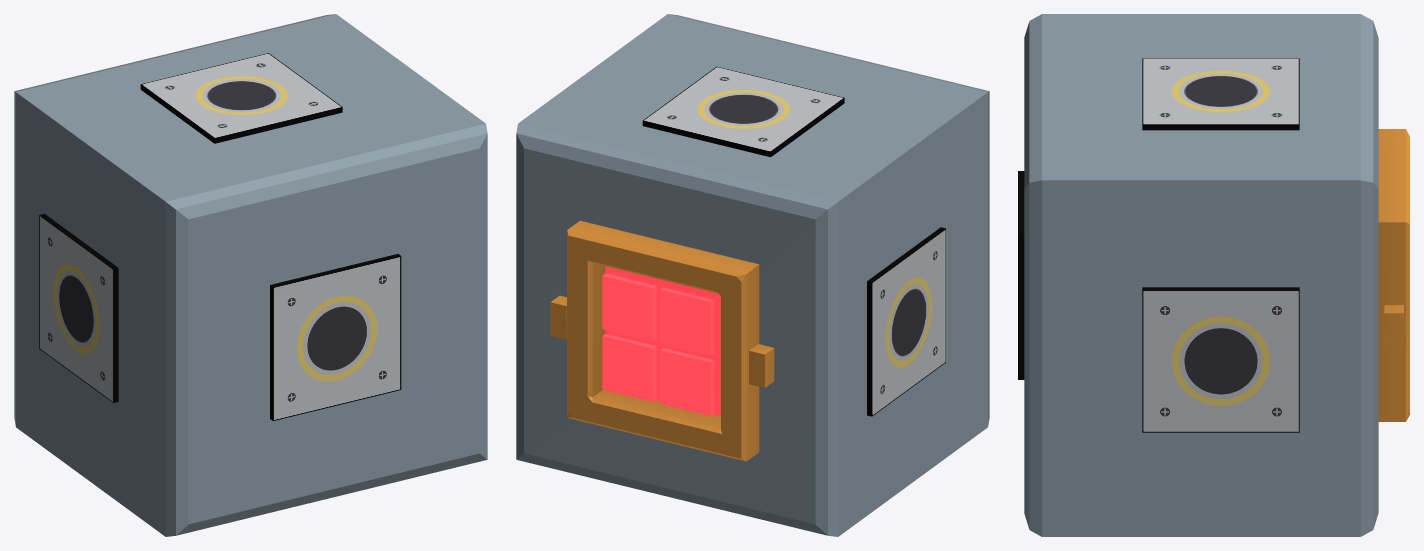
3 views of the same model, side by side, from view 1: azimuth 30°, elevation 25°; view 2: azimuth 150°, elevation 25°; view 3: azimuth 270°, elevation 25° (orthographic). The views are drawn at different scales.
Visible parts, largest first — view 1: Part_Body, Part_PowerPort_block; view 2: Part_Body, Part_Orange, Part_PowerPort_block, Part_Screen; view 3: Part_Body, Part_PowerPort_block, Part_Orange.
Part boxes in pixels (left/top/right/bottom): Part_Body: left=14, top=14, right=487, bottom=536; Part_PowerPort_block: left=39, top=53, right=401, bottom=420; Part_Body: left=516, top=14, right=989, bottom=536; Part_Orange: left=550, top=220, right=774, bottom=461; Part_PowerPort_block: left=642, top=66, right=945, bottom=416; Part_Screen: left=602, top=266, right=720, bottom=415; Part_Body: left=1024, top=14, right=1378, bottom=536; Part_PowerPort_block: left=1018, top=58, right=1299, bottom=432; Part_Orange: left=1378, top=129, right=1409, bottom=421.
Size of the model in its own units: 1.03 by 1.03 by 0.996.
Materials: 4 (1 with a texture image).
